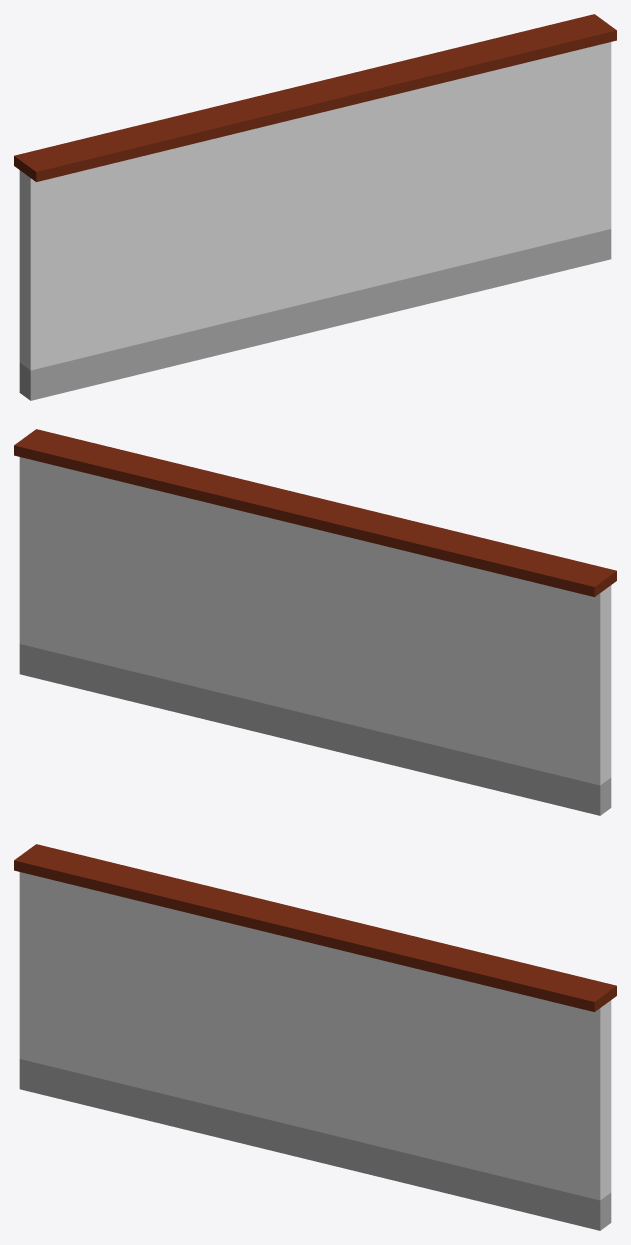
File: stage_2_miro 1.obj
The picture shows the model from 3 angles, top to bottom: view 1: azimuth 30°, elevation 25°; view 2: azimuth 150°, elevation 25°; view 3: azimuth 330°, elevation 25°; orthographic projection.
Parts seen in each view (by area): view 1: stage_2_miro; view 2: stage_2_miro; view 3: stage_2_miro.
Part boxes in pixels (bbox=[...]): stage_2_miro: bbox=[14, 14, 616, 400]; stage_2_miro: bbox=[14, 429, 616, 815]; stage_2_miro: bbox=[14, 844, 616, 1230].
Size of the model in its own units: 60 by 23 by 4.
1 material, 1 textured.
